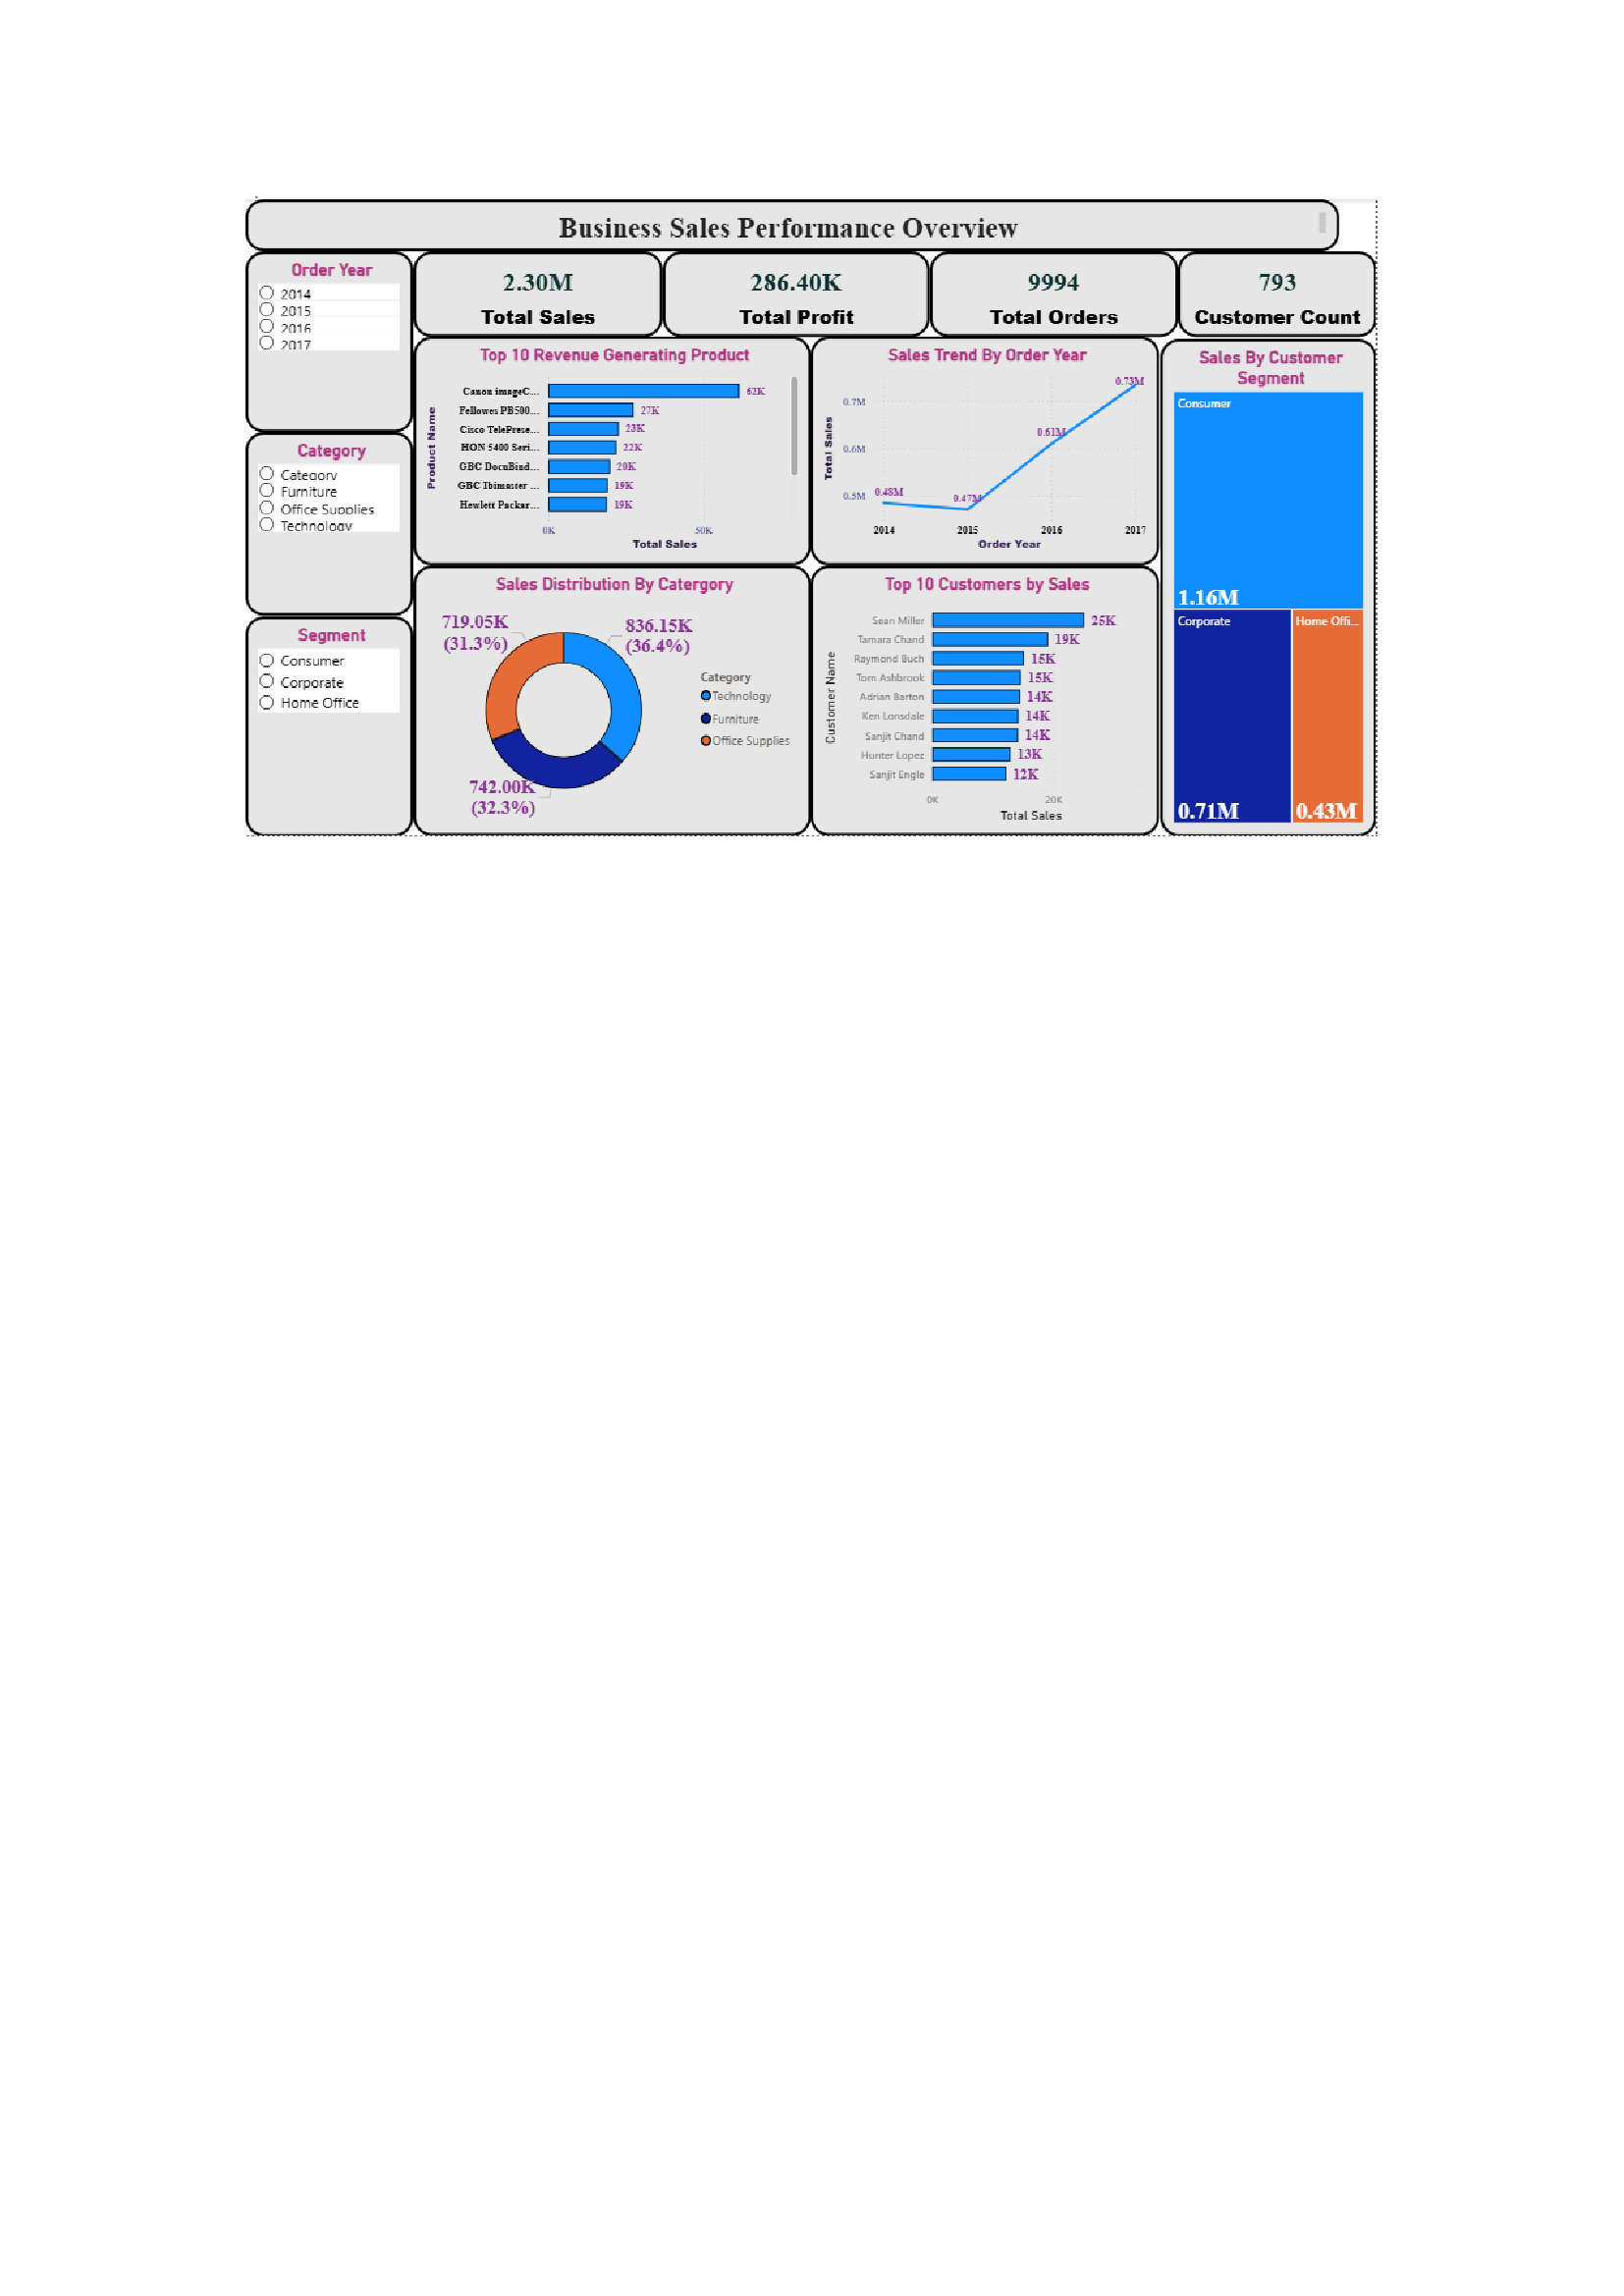

This screenshot's page, from the dashboard's own definition file:
{"tool":"powerbi","page":{"name":"Business Sales Performance","canvas":[1280,720],"ordinal":2},"visuals":[{"type":"card","fields":{"Values":["DAX Measures.Total Sales"]},"box":[189.8,58.8,282.2,97.4],"z":0},{"type":"card","fields":{"Values":["DAX Measures.Total Profit"]},"box":[472,58.8,302.4,97.4],"z":1000},{"type":"card","fields":{"Values":["DAX Measures.Total Orders"]},"box":[774.4,58.8,280.5,97.4],"z":2000},{"type":"card","fields":{"Values":["DAX Measures.Customer Count"]},"box":[1054.9,58.8,225.1,97.4],"z":3000},{"type":"listSlicer","fields":{"Values":["Orders_Fact.Order Year"]},"box":[0,58.8,189.8,204.9],"z":4000},{"type":"listSlicer","fields":{"Values":["Product_Dim.Category"]},"box":[0,263.7,189.8,208.3],"z":5000},{"type":"clusteredBarChart","title":"Top 10 Revenue Generating Product","fields":{"Category":["Product_Dim.Product Name"],"Y":["DAX Measures.Total Sales"]},"box":[189.8,156.2,450.2,258.7],"z":7000},{"type":"lineChart","title":"Sales Trend By Order Year","fields":{"Y":["DAX Measures.Total Sales"],"Category":["Orders_Fact.Order Year"]},"box":[640,156.2,394.8,258.7],"z":8000},{"type":"donutChart","title":"Sales Distribution By Catergory","fields":{"Category":["Product_Dim.Category"],"Y":["DAX Measures.Total Sales"]},"box":[189.8,414.9,450.2,305.7],"z":9000},{"type":"clusteredBarChart","title":"Top 10 Customers by Sales","fields":{"Category":["Customer_Dim.Customer Name"],"Y":["DAX Measures.Total Sales"]},"box":[640,414.9,394.8,305.7],"z":10000},{"type":"listSlicer","fields":{"Values":["Customer_Dim.Segment"]},"box":[0,472,189.8,248.6],"z":10001},{"type":"treemap","title":"Sales By Customer Segment","fields":{"Group":["Customer_Dim.Segment"],"Values":["DAX Measures.Total Sales"]},"box":[1034.8,157.9,245.2,562.7],"z":10002},{"type":"textbox","box":[0,0,1238,58.8],"z":10003}]}

Visuals, with their boxes on the page's 1280x720 design canvas (x1, y1, x2, y2). These are canvas units, not pixel positions in the 1624x2296 screenshot, which may show the page scaled, cropped or inside an application window:
card - DAX Measures.Total Sales: detection(190, 59, 472, 156)
card - DAX Measures.Total Profit: detection(472, 59, 774, 156)
card - DAX Measures.Total Orders: detection(774, 59, 1055, 156)
card - DAX Measures.Customer Count: detection(1055, 59, 1280, 156)
listSlicer - Orders_Fact.Order Year: detection(0, 59, 190, 264)
listSlicer - Product_Dim.Category: detection(0, 264, 190, 472)
"Top 10 Revenue Generating Product" clusteredBarChart: detection(190, 156, 640, 415)
"Sales Trend By Order Year" lineChart: detection(640, 156, 1035, 415)
"Sales Distribution By Catergory" donutChart: detection(190, 415, 640, 721)
"Top 10 Customers by Sales" clusteredBarChart: detection(640, 415, 1035, 721)
listSlicer - Customer_Dim.Segment: detection(0, 472, 190, 721)
"Sales By Customer Segment" treemap: detection(1035, 158, 1280, 721)
textbox: detection(0, 0, 1238, 59)
